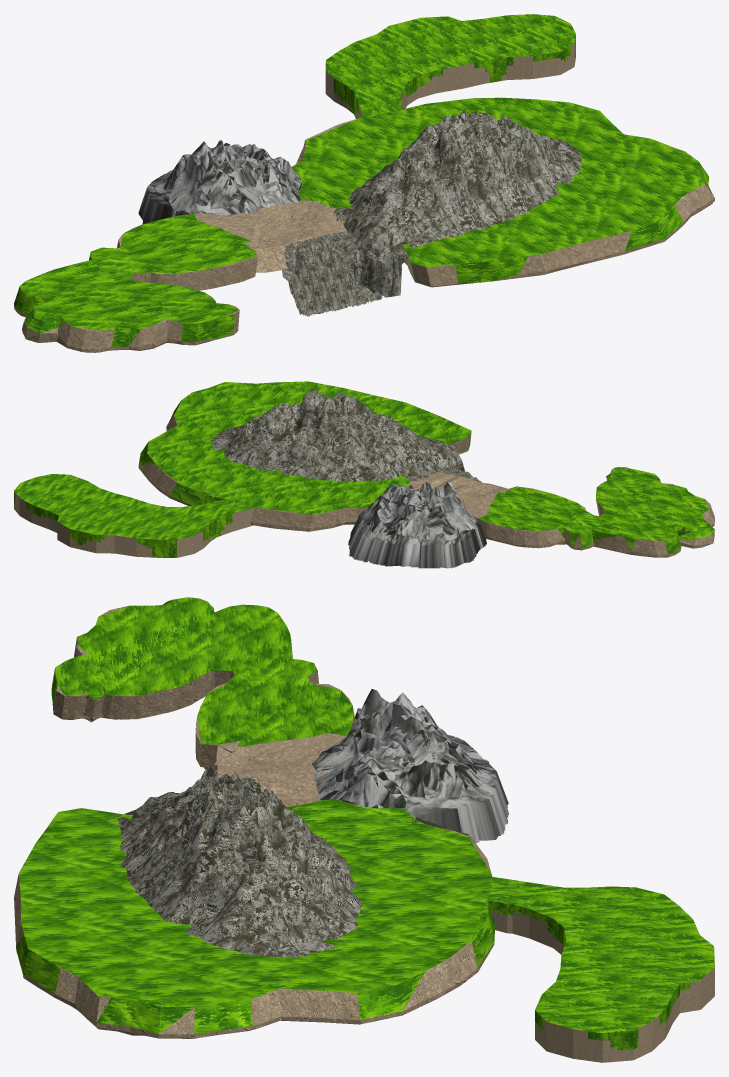
File: map1.glb
3 views of the same model, one above another, from view 1: azimuth 30°, elevation 25°; view 2: azimuth 150°, elevation 25°; view 3: azimuth 270°, elevation 25° (orthographic). The views are drawn at different scales.
Parts seen in each view (by area): view 1: Landscape.026, Landscape.004, Landscape.002, Landscape.001, Landscape.033; view 2: Landscape.026, Landscape.004, Landscape.002, Landscape.001; view 3: Landscape.026, Landscape.004, Landscape.002, Landscape.001.
Part boxes in pixels (left/top/right/bottom): Landscape.026: left=14, top=14, right=713, bottom=346; Landscape.004: left=333, top=109, right=581, bottom=297; Landscape.002: left=14, top=35, right=714, bottom=352; Landscape.001: left=138, top=140, right=302, bottom=224; Landscape.033: left=282, top=227, right=382, bottom=316; Landscape.026: left=14, top=381, right=714, bottom=557; Landscape.004: left=210, top=390, right=465, bottom=481; Landscape.002: left=14, top=416, right=714, bottom=557; Landscape.001: left=348, top=481, right=486, bottom=568; Landscape.026: left=16, top=597, right=714, bottom=1050; Landscape.004: left=117, top=771, right=362, bottom=957; Landscape.002: left=14, top=637, right=714, bottom=1062; Landscape.001: left=312, top=689, right=509, bottom=842.
Bounding box in the file's own units: 1799 × 319 × 1197.
4 materials, 4 textured.
